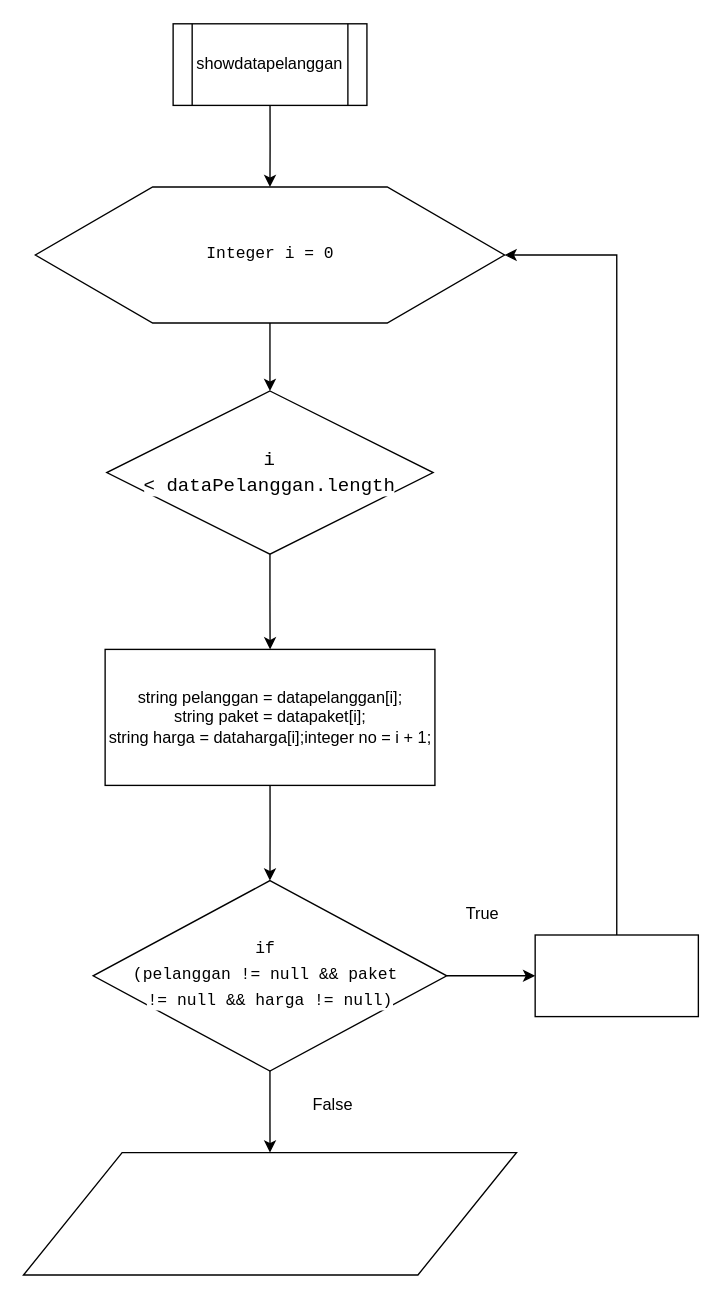
Image size: 724x1299. Some labels were removed from this diagram. Each missing label, with the centre of its shape:
i++: pixel 616 975
print no + "." + pelanggan + " " + paket + " " + harga: pixel 269 1213
